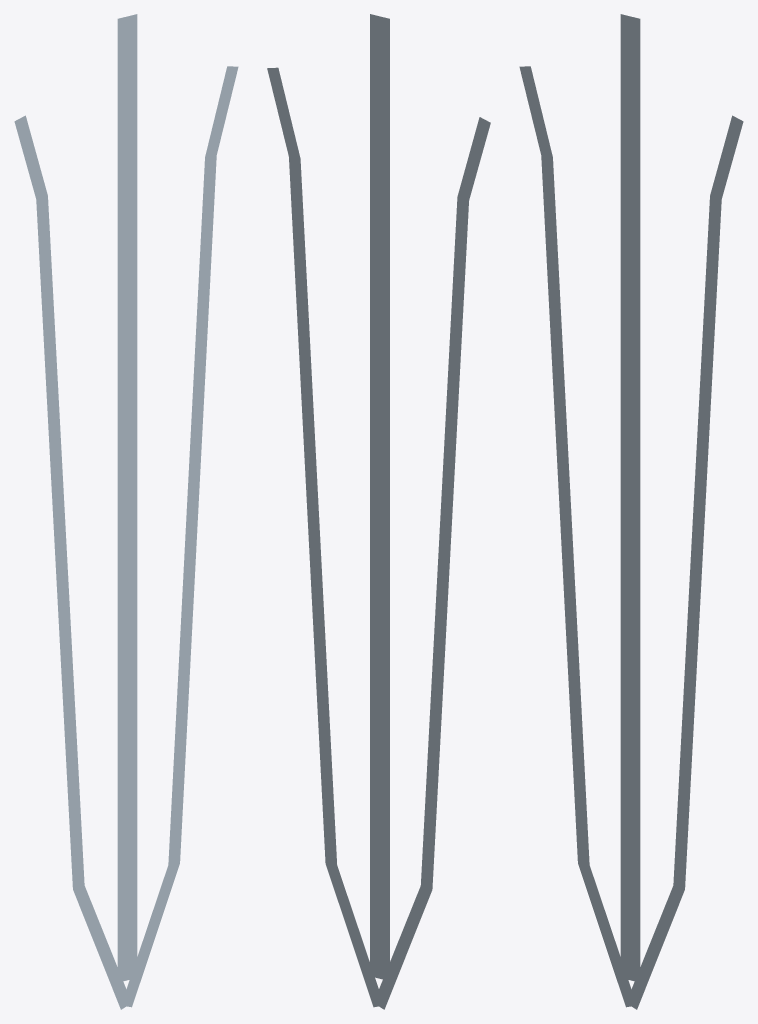
Rendered from Chongyun_LayeredFrostState_State_SpiritSwordWhiteEdges.fbx.
3 renders of one model, left to right at view 1: azimuth 30°, elevation 25°; view 2: azimuth 150°, elevation 25°; view 3: azimuth 330°, elevation 25°, orthographic.
Parts seen in each view (by area): view 1: PART_SpiritSwordWhiteSpine, PART_SpiritSwordColdBladeEdge_-1, PART_SpiritSwordColdBladeEdge_1; view 2: PART_SpiritSwordWhiteSpine, PART_SpiritSwordColdBladeEdge_-1, PART_SpiritSwordColdBladeEdge_1; view 3: PART_SpiritSwordWhiteSpine, PART_SpiritSwordColdBladeEdge_-1, PART_SpiritSwordColdBladeEdge_1.
Boxes of the visible parts, <box> form: PART_SpiritSwordWhiteSpine: <box>117,14,137,982</box>; PART_SpiritSwordColdBladeEdge_-1: <box>14,115,131,1009</box>; PART_SpiritSwordColdBladeEdge_1: <box>122,66,238,1007</box>; PART_SpiritSwordWhiteSpine: <box>370,14,389,979</box>; PART_SpiritSwordColdBladeEdge_-1: <box>374,117,490,1009</box>; PART_SpiritSwordColdBladeEdge_1: <box>267,67,383,1007</box>; PART_SpiritSwordWhiteSpine: <box>620,14,640,982</box>; PART_SpiritSwordColdBladeEdge_-1: <box>519,66,636,1007</box>; PART_SpiritSwordColdBladeEdge_1: <box>626,115,743,1009</box>.
Bounding box in the file's own units: 61.09 × 259 × 0.5.
